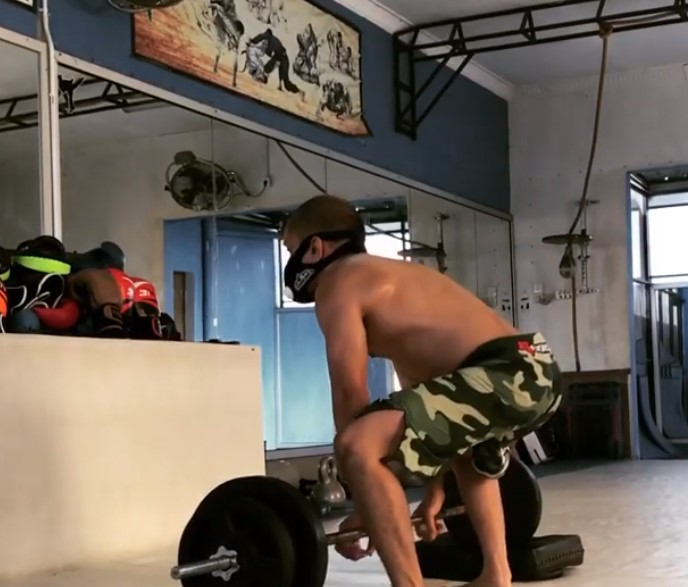face_with_mask: (278, 190, 355, 302)
